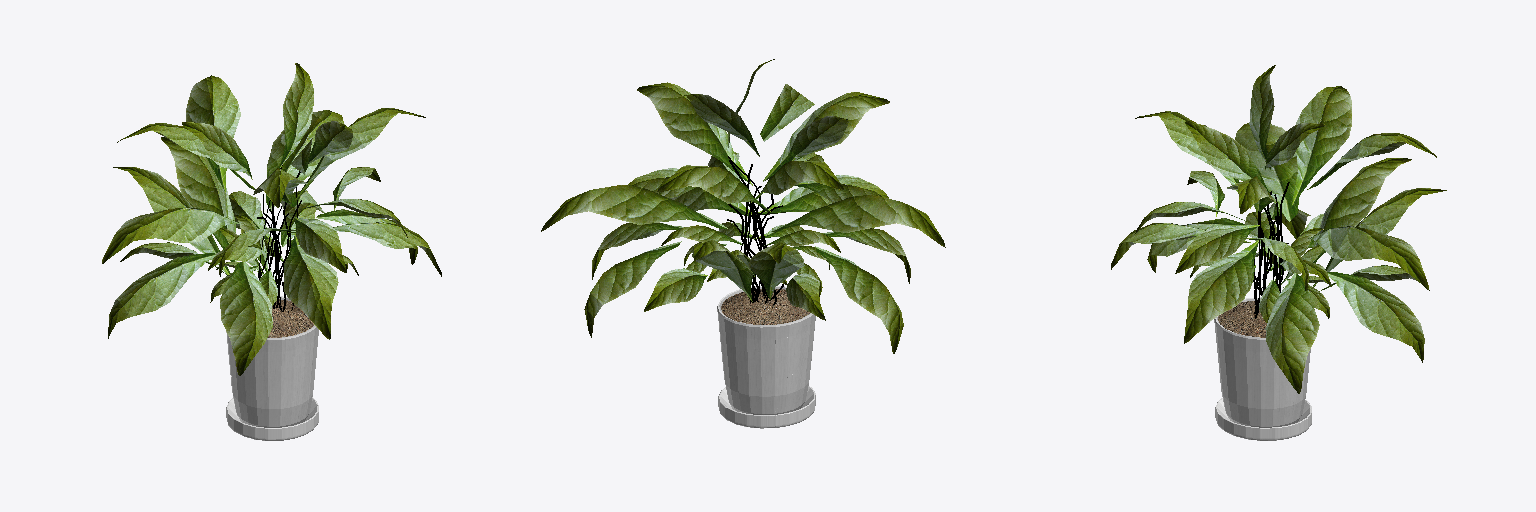
The picture shows the model from 3 angles: view 1: azimuth 30°, elevation 25°; view 2: azimuth 150°, elevation 25°; view 3: azimuth 270°, elevation 25°; orthographic projection.
Visible parts, largest first — view 1: pasted__pasted__polySurface1 pasted__group12 group; view 2: pasted__pasted__polySurface1 pasted__group12 group; view 3: pasted__pasted__polySurface1 pasted__group12 group.
Part boxes in pixels (left/top/right/bottom): pasted__pasted__polySurface1 pasted__group12 group: left=102, top=63, right=441, bottom=440; pasted__pasted__polySurface1 pasted__group12 group: left=541, top=59, right=945, bottom=428; pasted__pasted__polySurface1 pasted__group12 group: left=1111, top=65, right=1446, bottom=440.
Size of the model in its own units: 1.6 by 1.48 by 1.41.
4 materials, 3 textured.